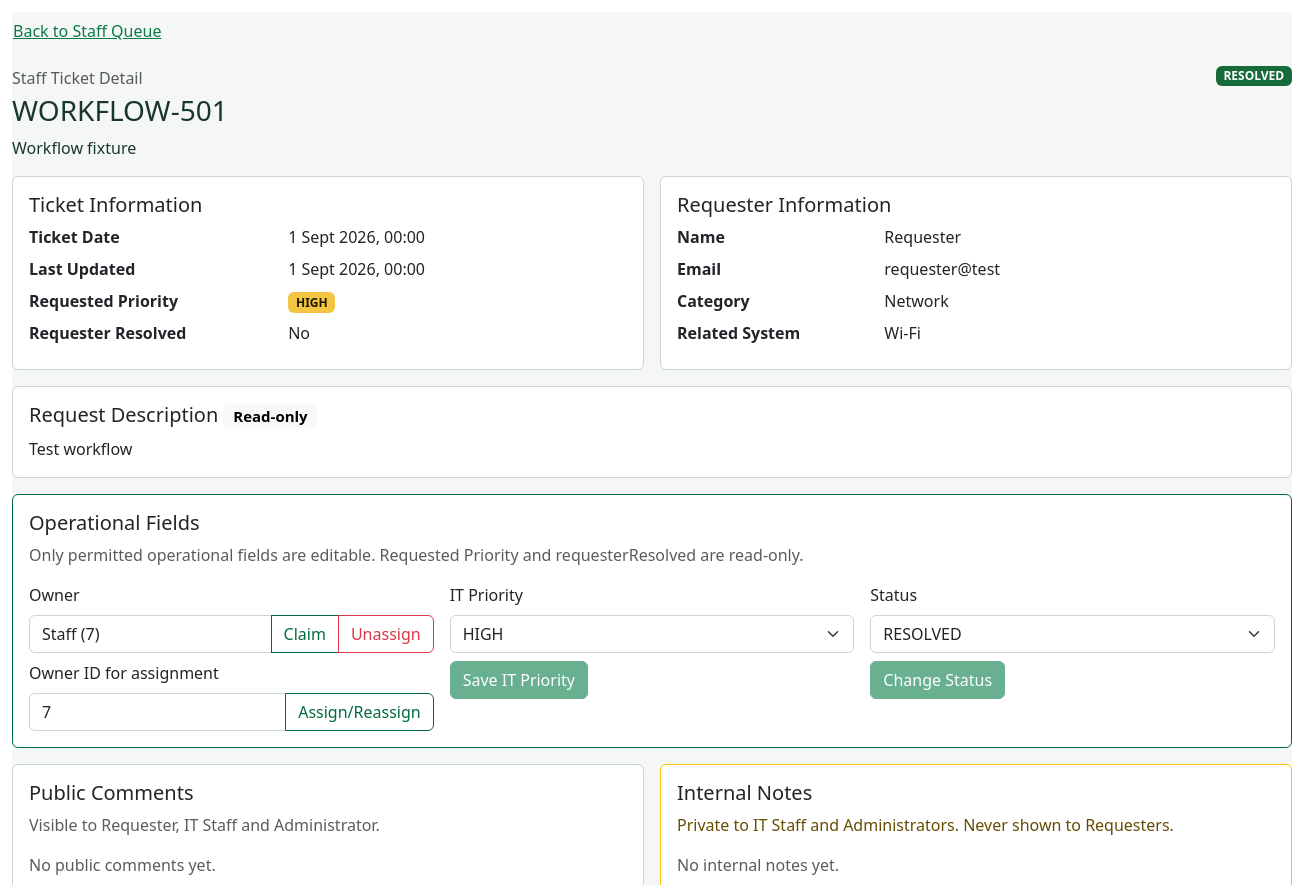
Test: UI-05 Ticket workflow › requires a labelled nonblank reopen reason and sends latest Ticket version
Expected: the heading "WORKFLOW-501" is shown, [12,94,228,128]
Select "REOPENED" in the dropdown labelled "Status": (1073,634) [870,615,1275,653]
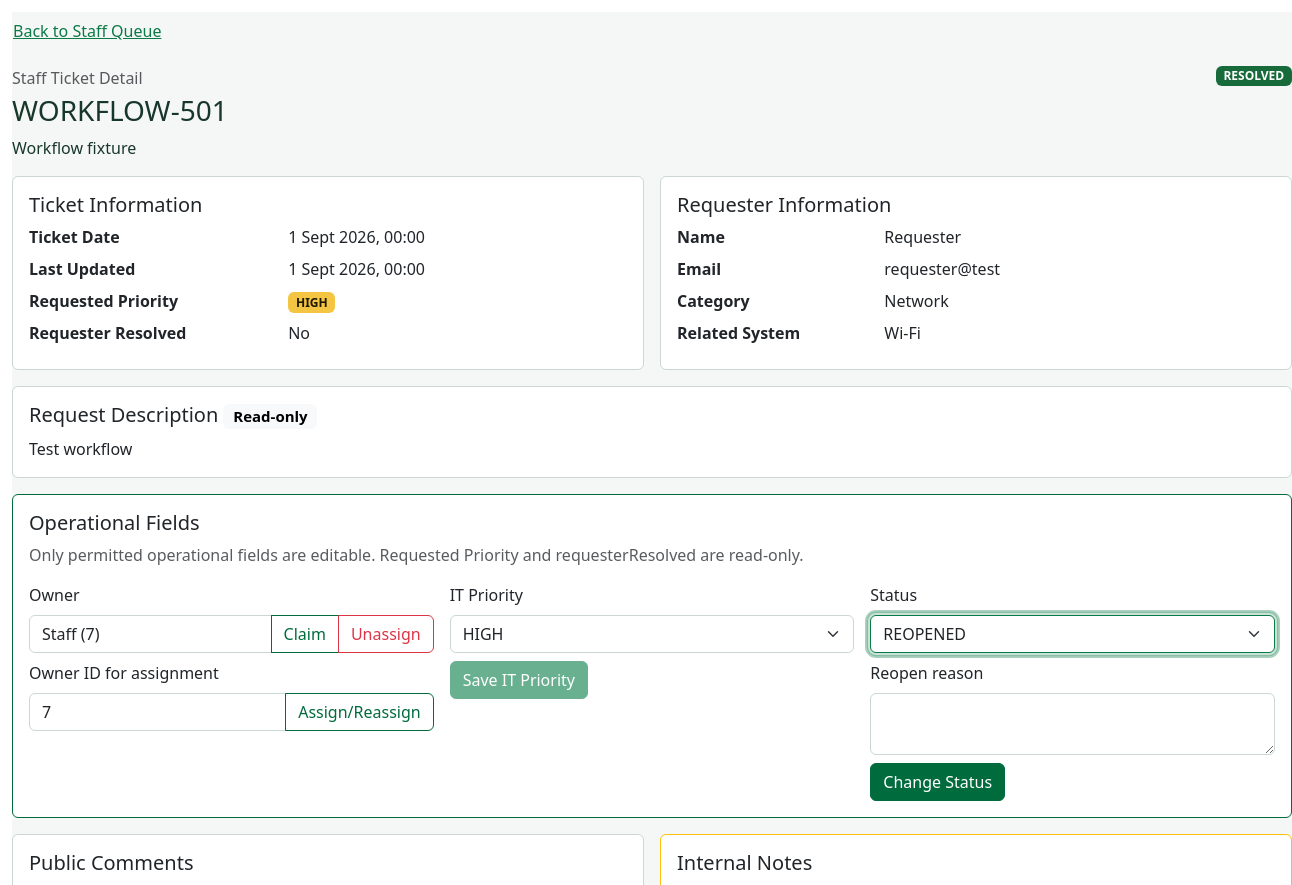
Click the button "Change Status": (938,782) [870,763,1005,801]
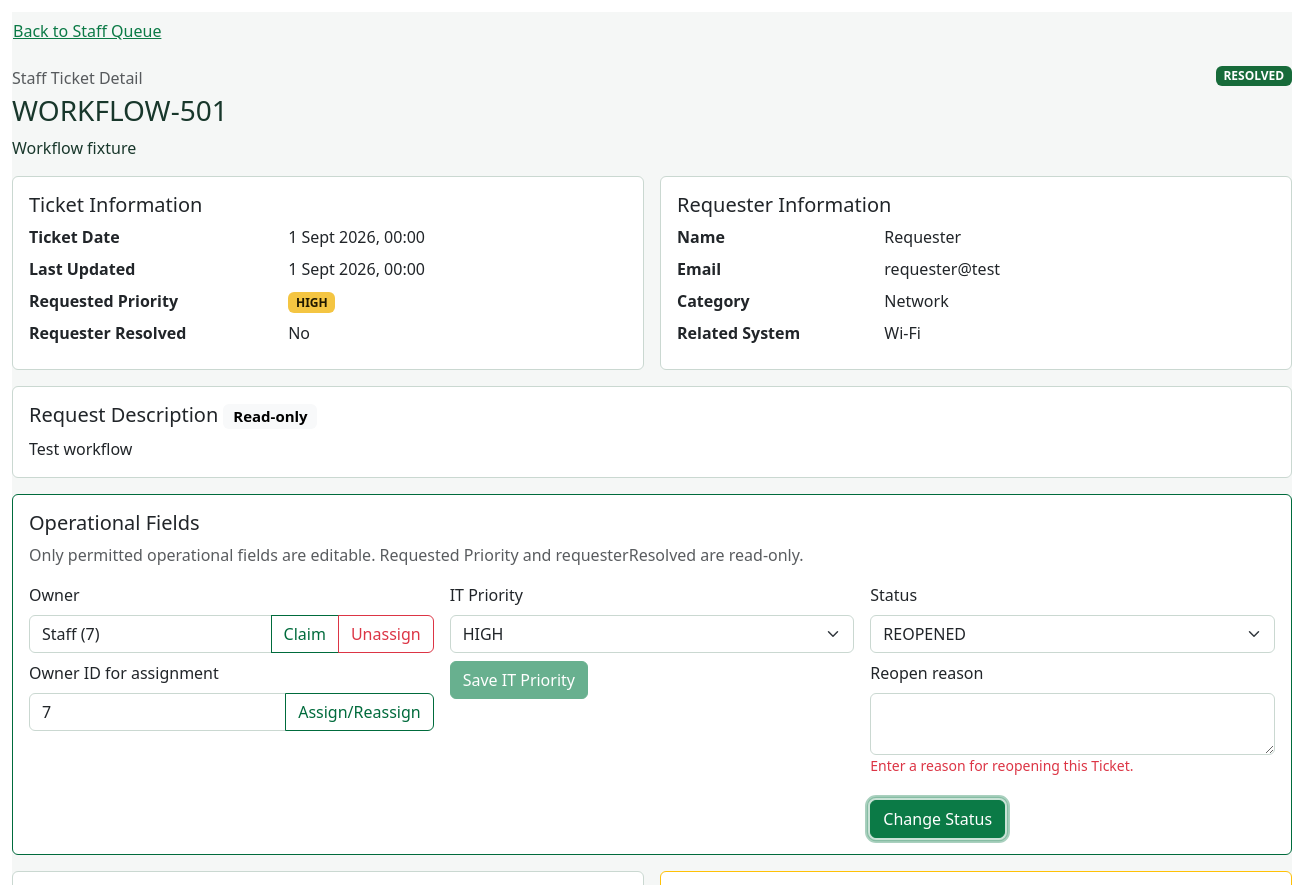
In the text box labelled "Reopen reason": (1073,724) [870,693,1275,755], type "Same issue returned"
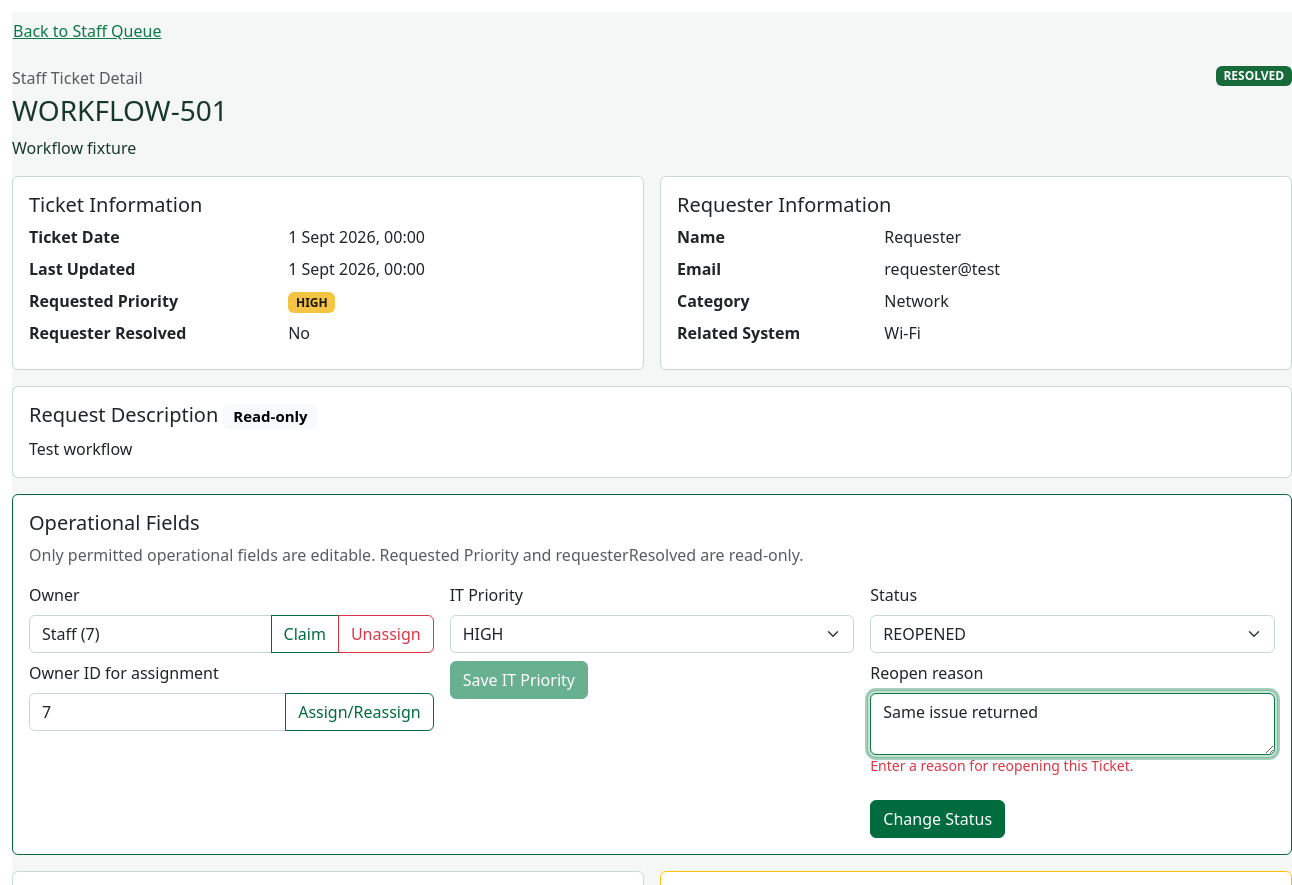
Click the button "Change Status": (938,819) [870,800,1005,838]
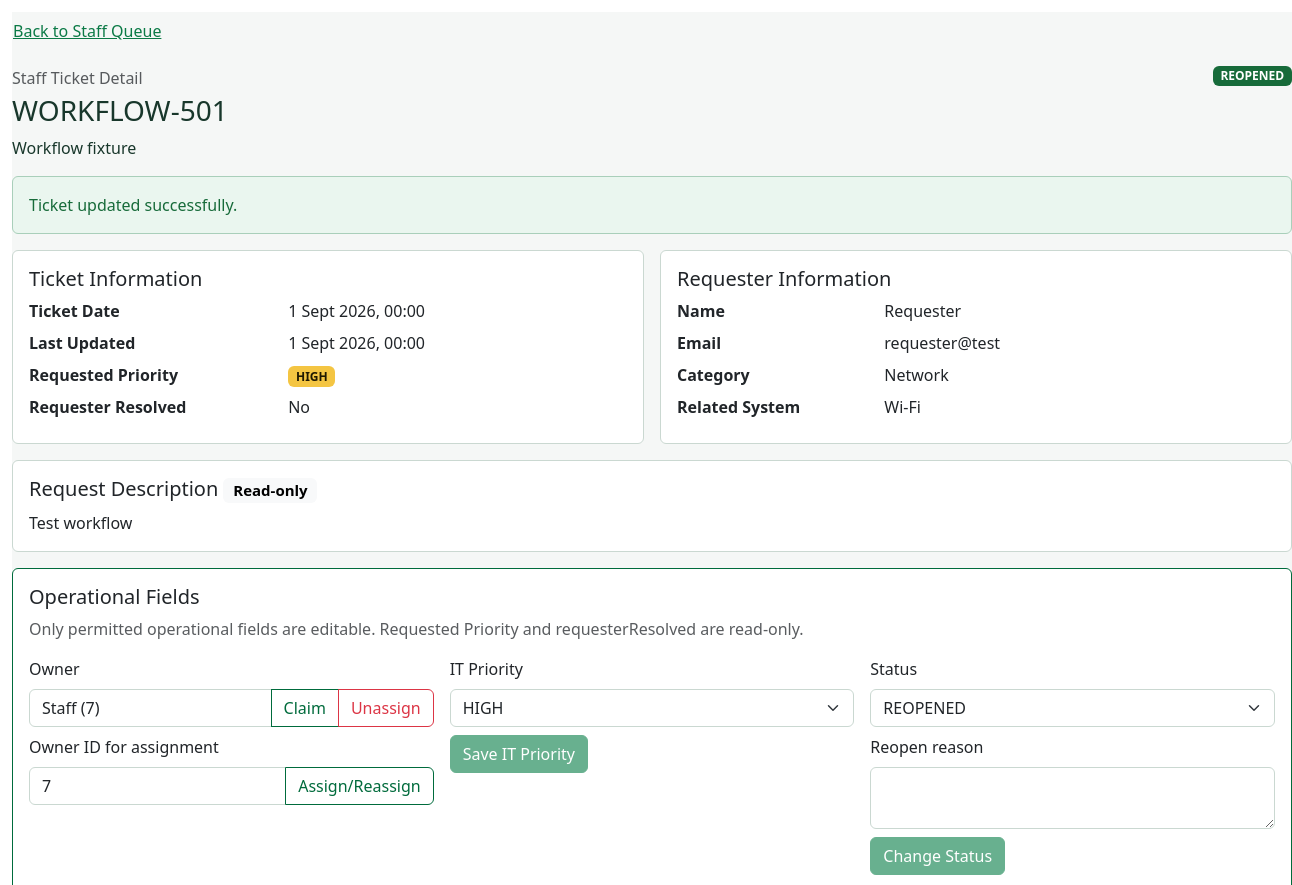
Result: the text "Ticket updated successfully." is shown at [12,176,1291,234]
